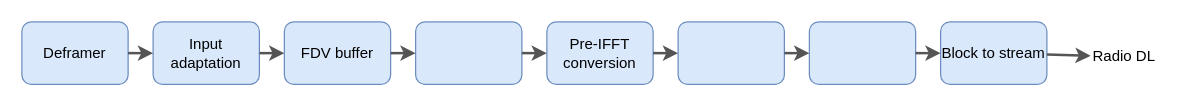
Image size: 1188x106. Some labels were removed from this diagram. The centre of each missing label's shape, as x and y in pixels:
"Gain" belongs at pixel 468 52.
"IFFT" belongs at pixel 730 52.
"Phase comp" belongs at pixel 862 52.
